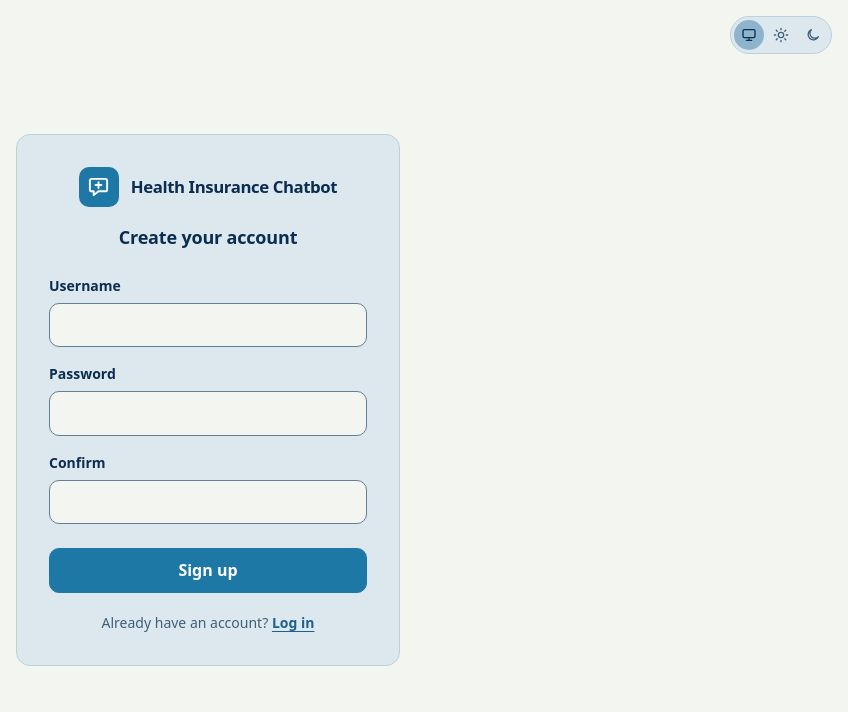
Test: SignupPage form errors › shows error for password mismatch
Type "alice" into the field. click: (208, 325)
box: [49, 303, 367, 347]
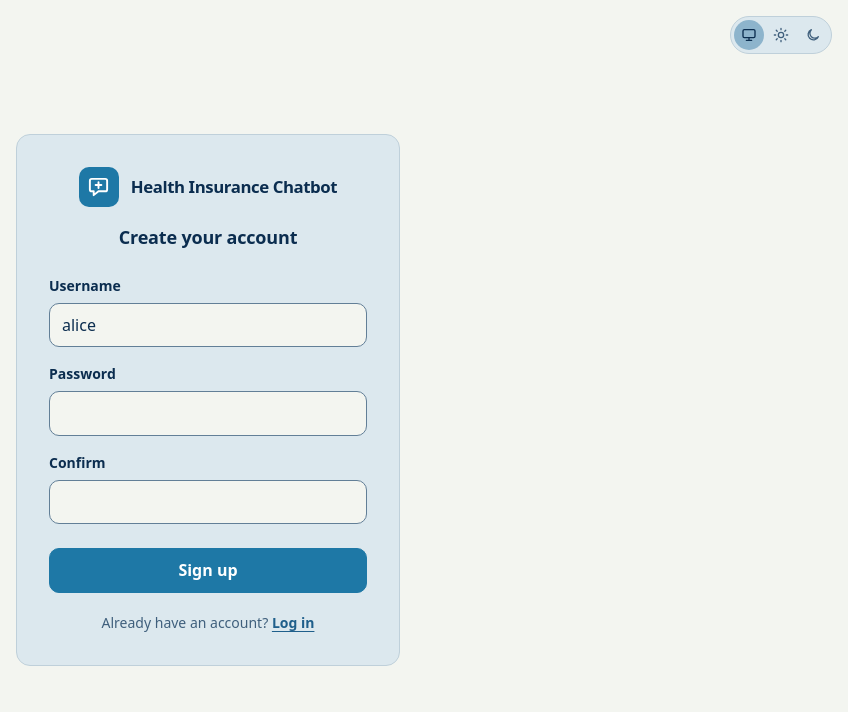
Type "password123" into the 1st password field. click: (208, 413)
box: [49, 391, 367, 436]
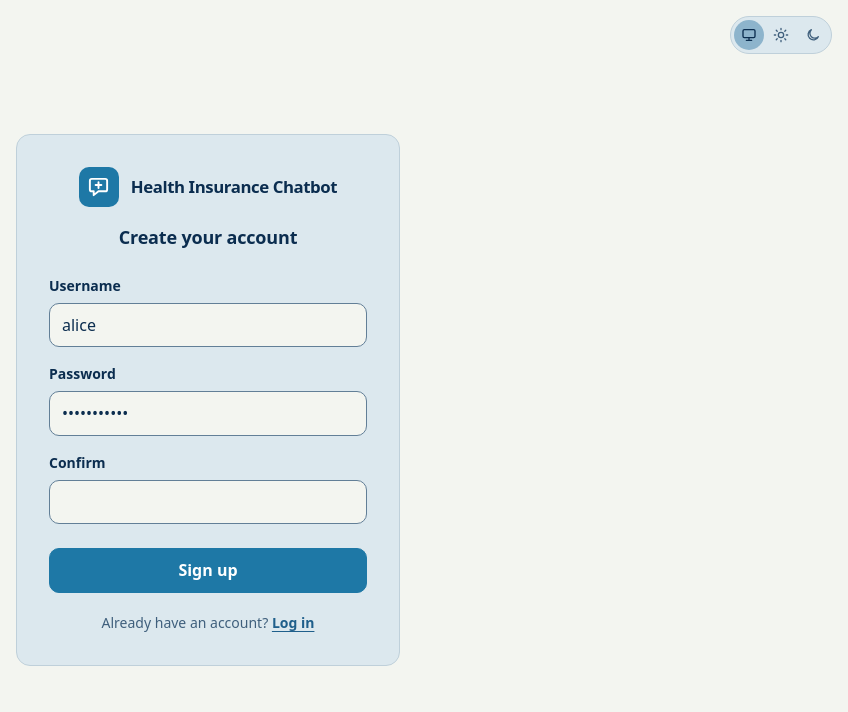
Type "different" into the 2nd password field. click: (208, 502)
box: [49, 480, 367, 524]
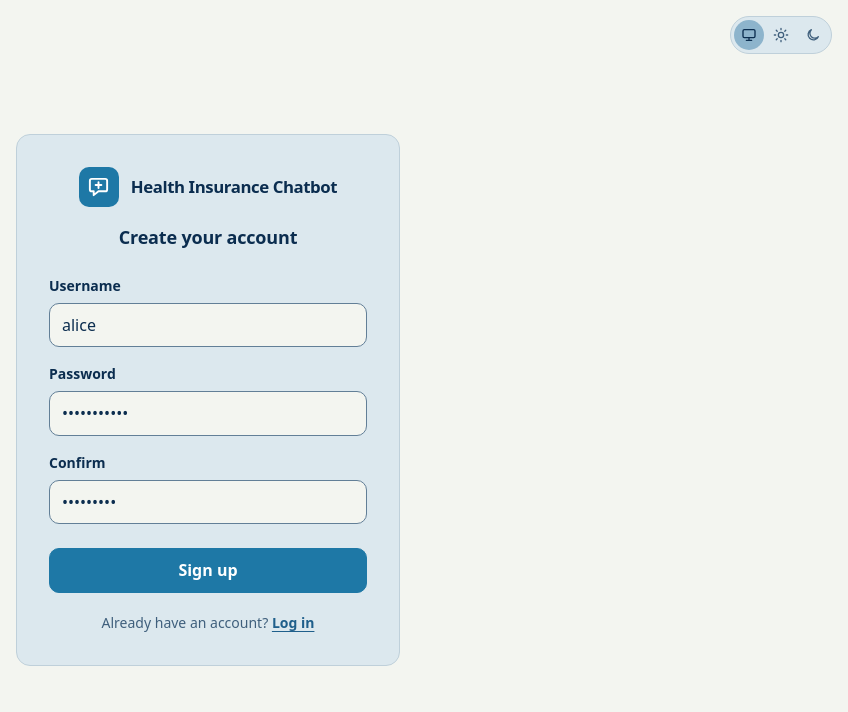
Click the button "Sign up". click: click(208, 571)
box: [49, 548, 367, 593]
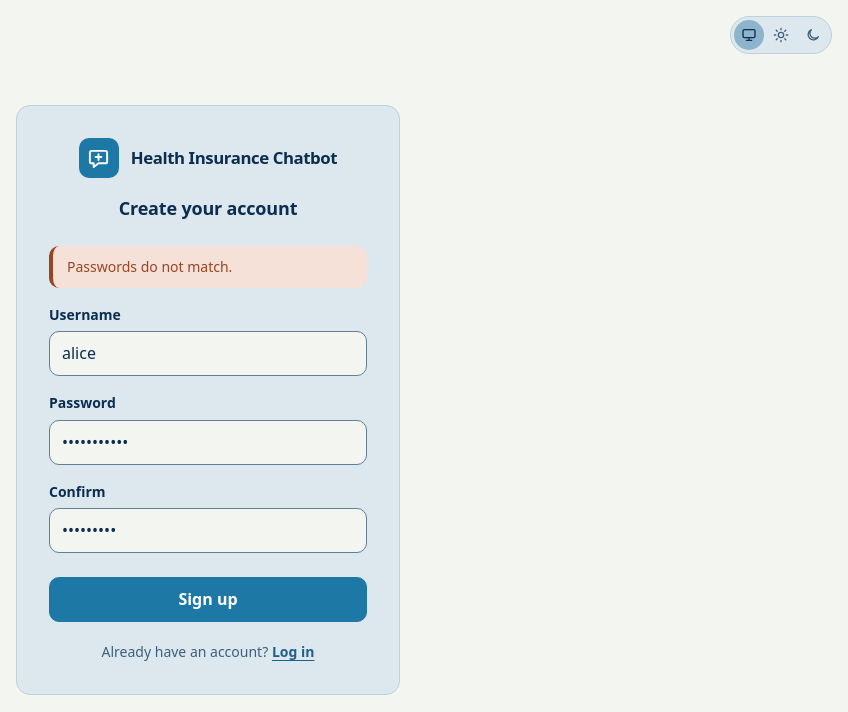
Result: the message shows "Passwords do not match" at [67, 257, 232, 276]
